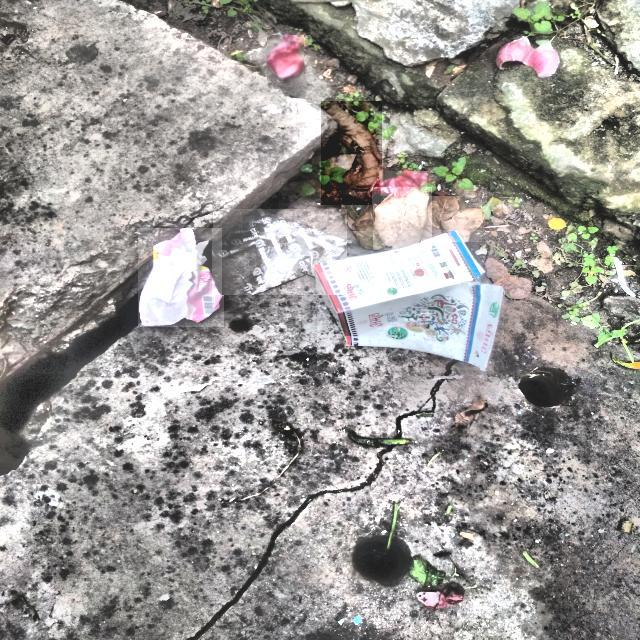anorganik: (213, 209, 346, 295), (138, 228, 223, 327)
organik: (318, 232, 504, 369), (321, 101, 381, 205), (373, 187, 431, 250), (422, 197, 482, 242), (498, 36, 558, 75), (268, 35, 304, 80), (381, 171, 427, 197)
